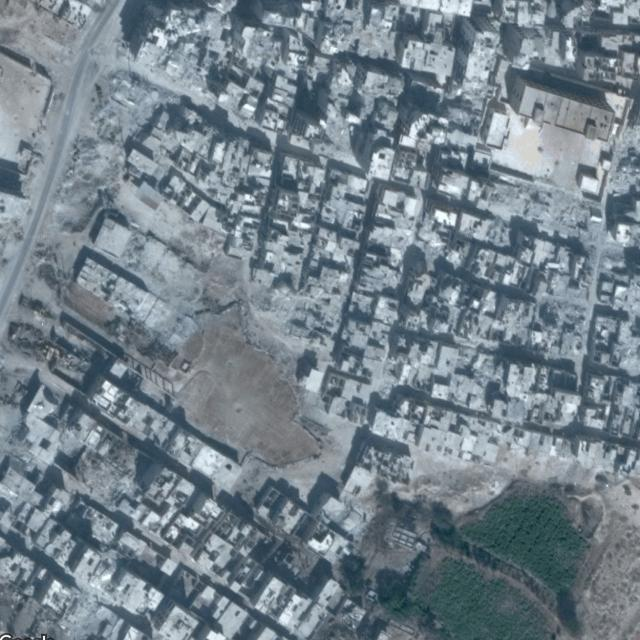damaged_building: (6, 67, 349, 393), (488, 178, 599, 356), (131, 0, 293, 100), (60, 560, 152, 638), (316, 3, 399, 55), (610, 117, 638, 195)
